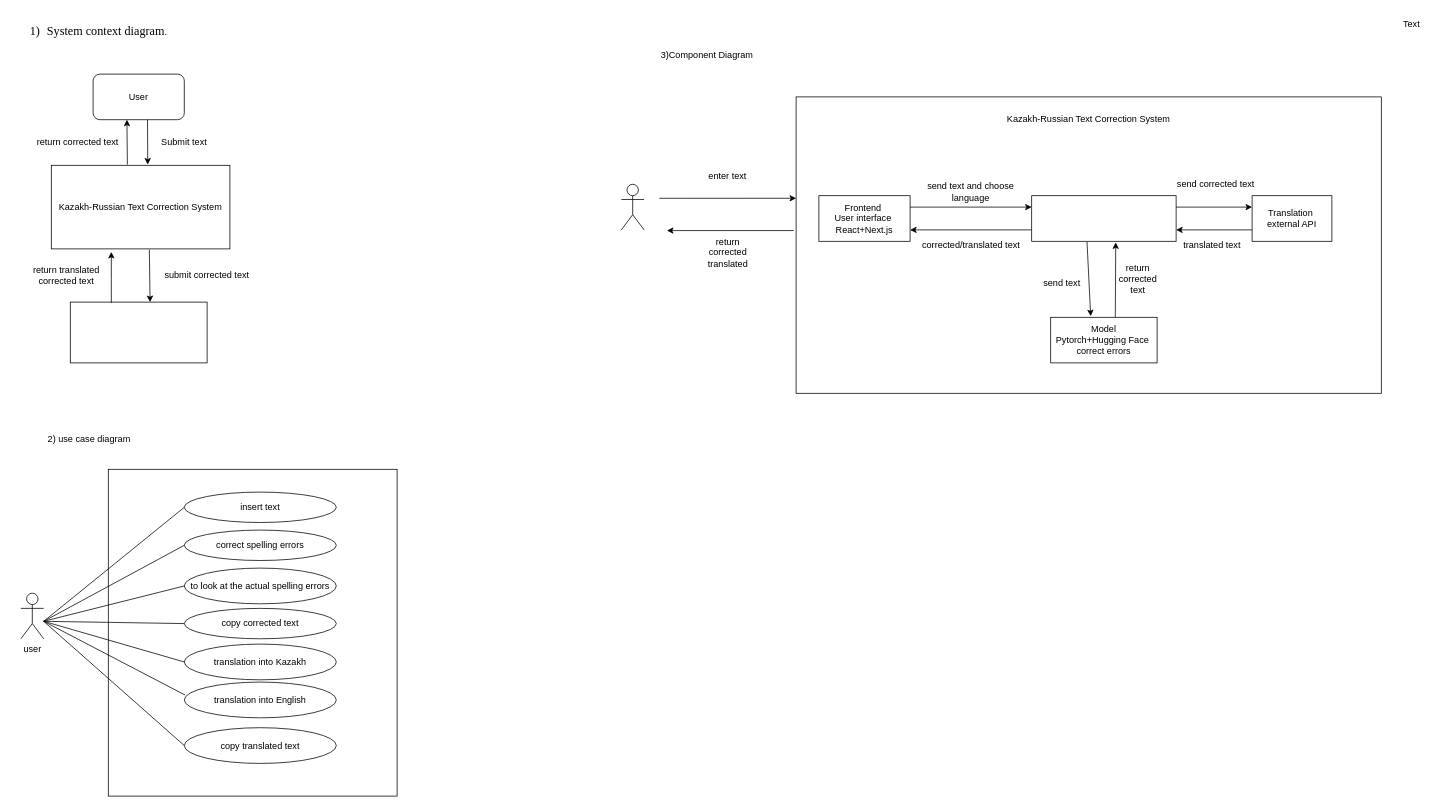
Image size: 1447x809. Some labels were removed from this diagram. The shapes that lost their labels are listed below. From the top down, each one's centre as x and y in pixels, then its label:
At point 632,207: "User (Web/Mobile)".
At point 1103,218: "Backend Python+FastAPI API, ,business logic, architecture".
At point 138,332: "Translation".
